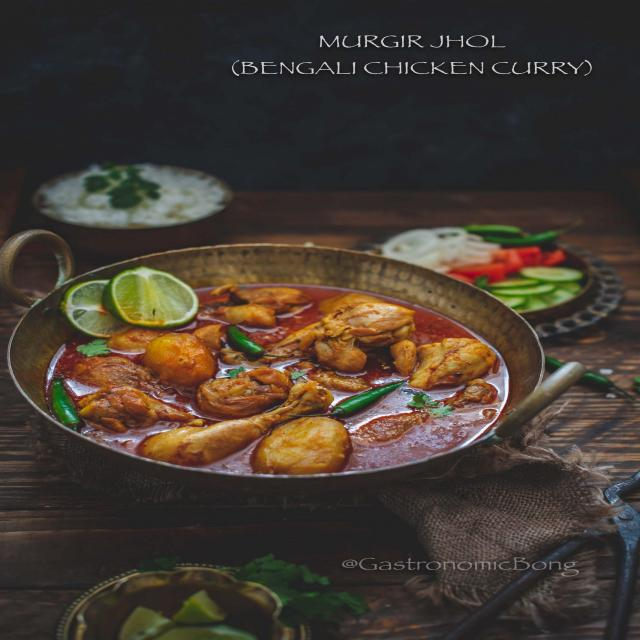chicken: (41, 264, 514, 480)
